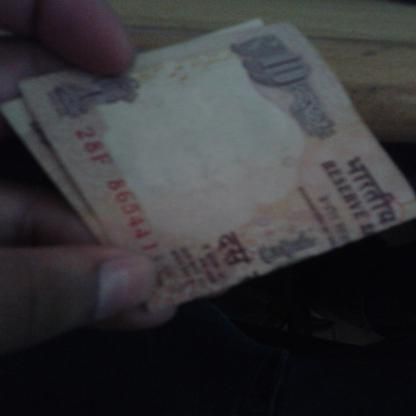Old10Front: (0, 18, 416, 311)
